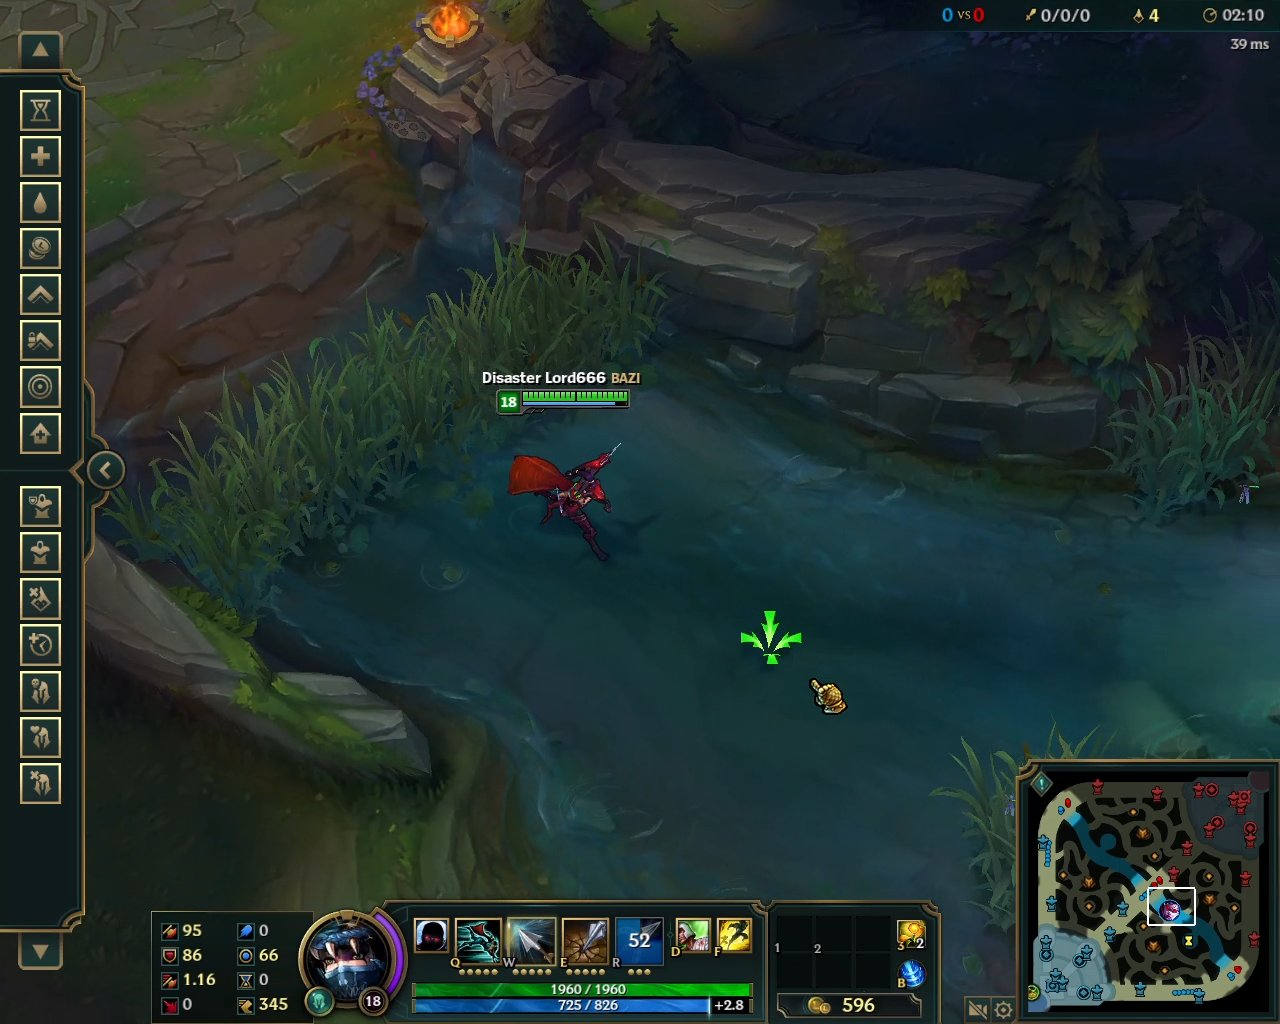Vayne: (503, 430, 623, 569)
